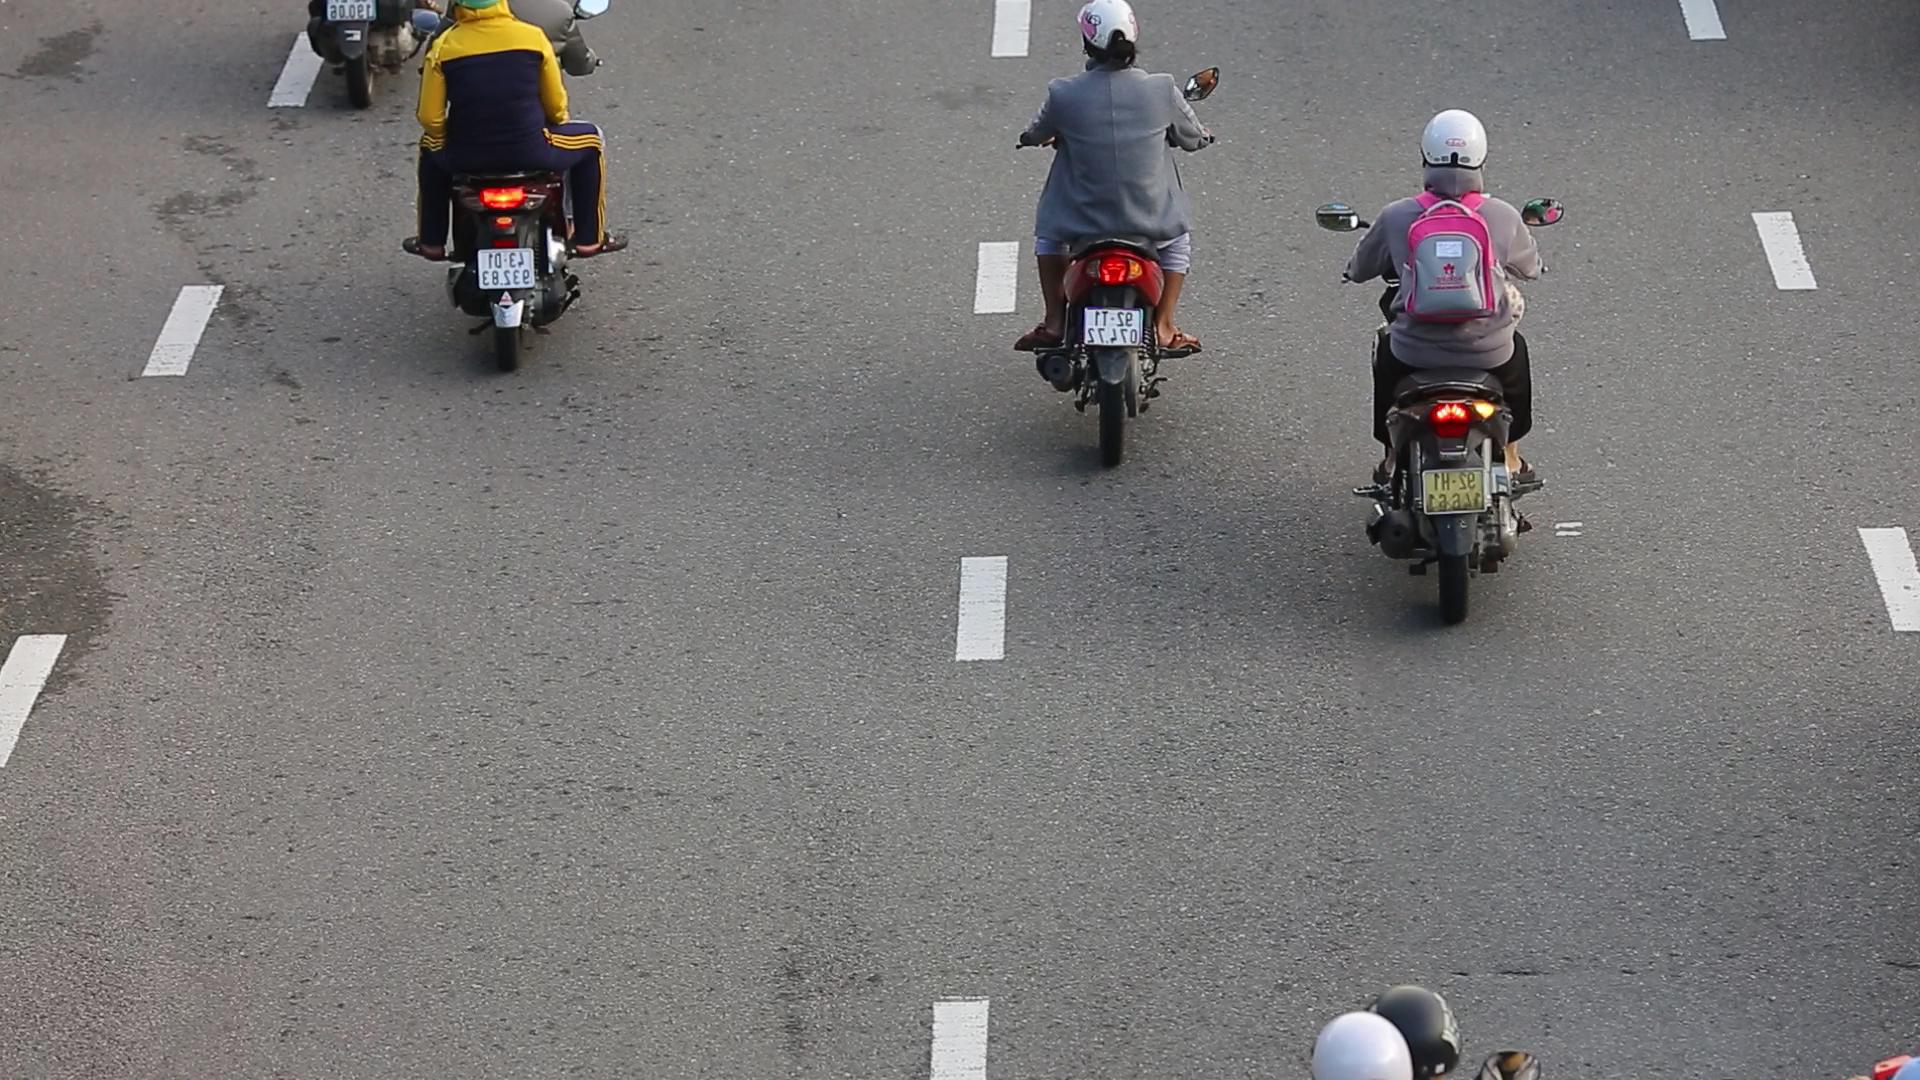motobike: (1291, 99, 1588, 626), (1006, 0, 1232, 488)
